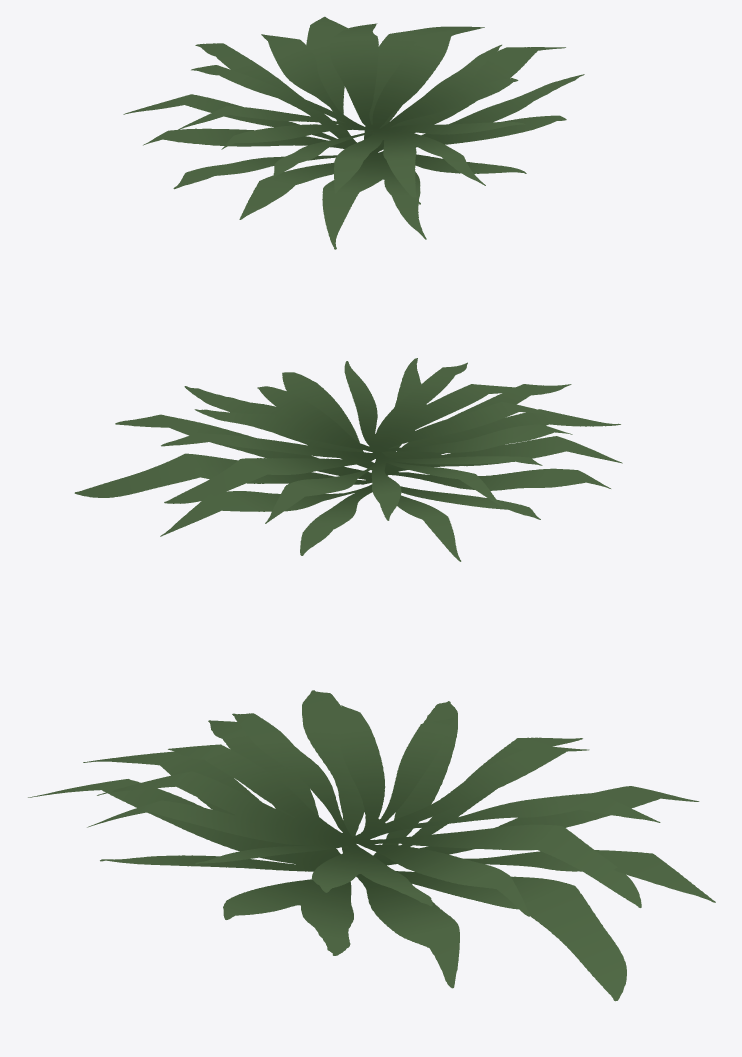
File: Feuille02.fbx
3 views of the same model, one above another, from view 1: azimuth 30°, elevation 25°; view 2: azimuth 150°, elevation 25°; view 3: azimuth 270°, elevation 25° (orthographic). The views are drawn at different scales.
Visible parts, largest first — view 1: polySurface3; view 2: polySurface3; view 3: polySurface3.
Boxes of the visible parts, x1,y1,x2,y2 form: polySurface3: (123, 16, 584, 249); polySurface3: (74, 358, 622, 561); polySurface3: (28, 690, 715, 1001).
Size of the model in its own units: 0.7488 by 0.1035 by 0.7488.
